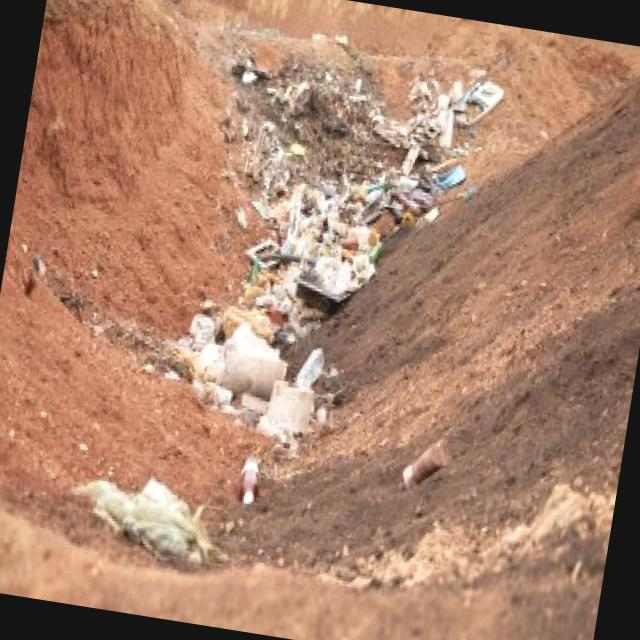garbage: (154, 7, 514, 471)
